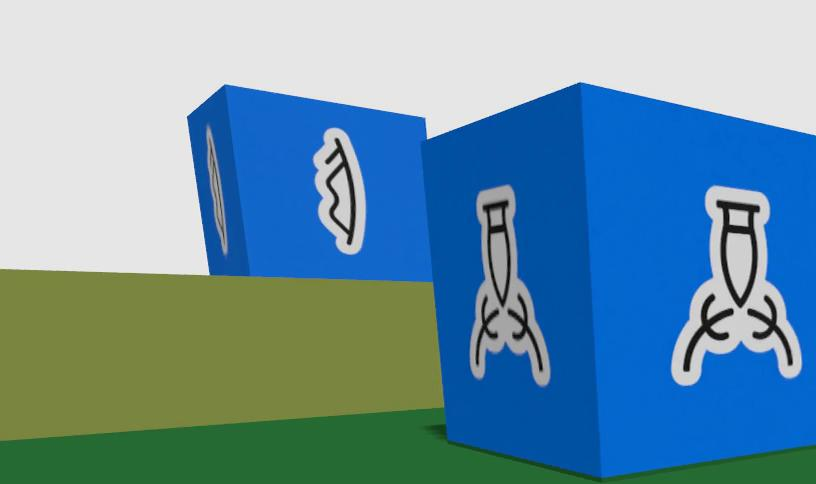KFS_REAL: (421, 84, 816, 477), (188, 85, 430, 280), (671, 186, 802, 384), (470, 186, 550, 386), (313, 128, 365, 254), (206, 125, 227, 255)
